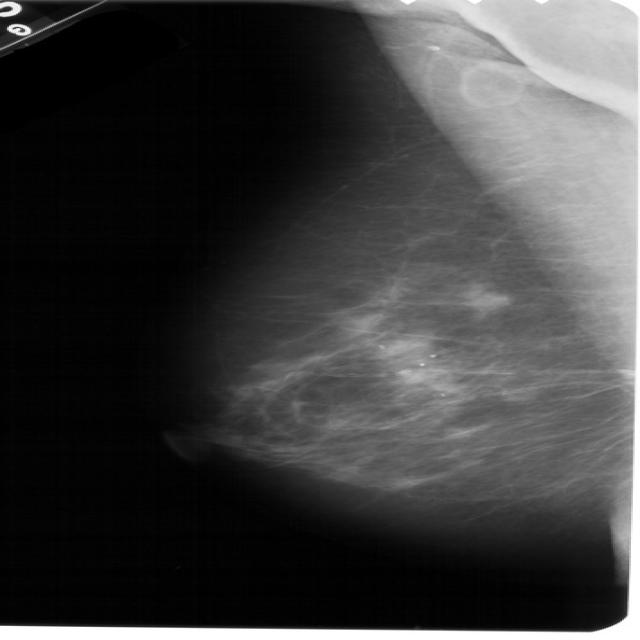tumour: (464, 284, 507, 310)
